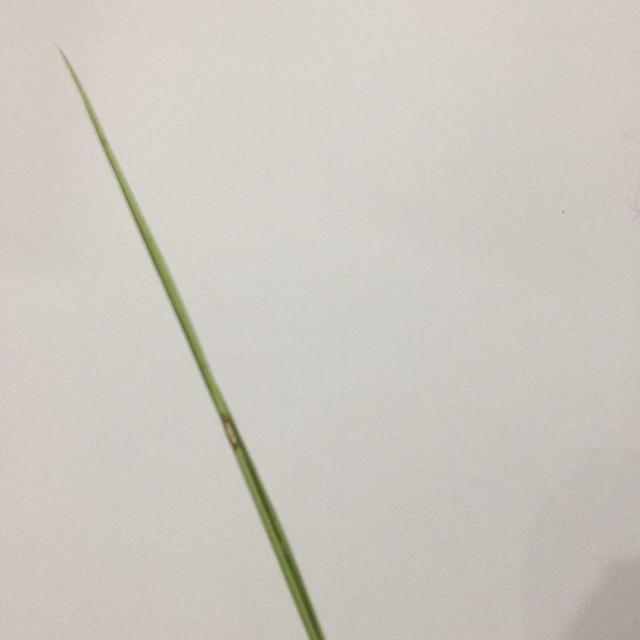Blast: (220, 413, 250, 453)
